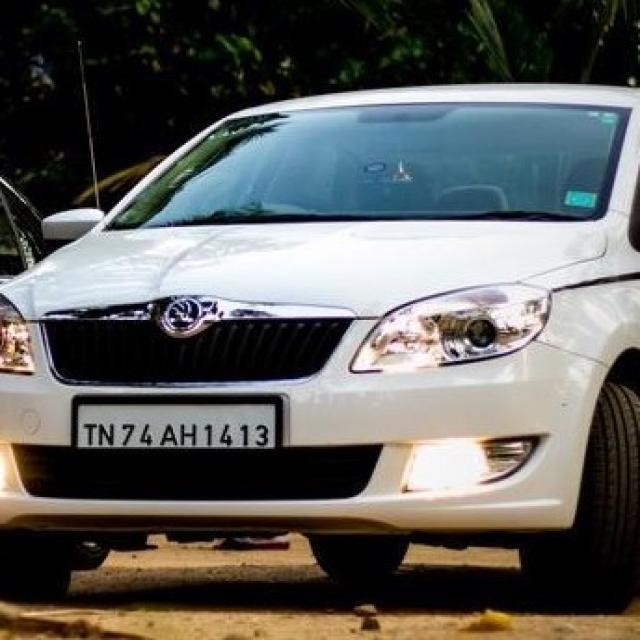Plate: (76, 400, 277, 448)
